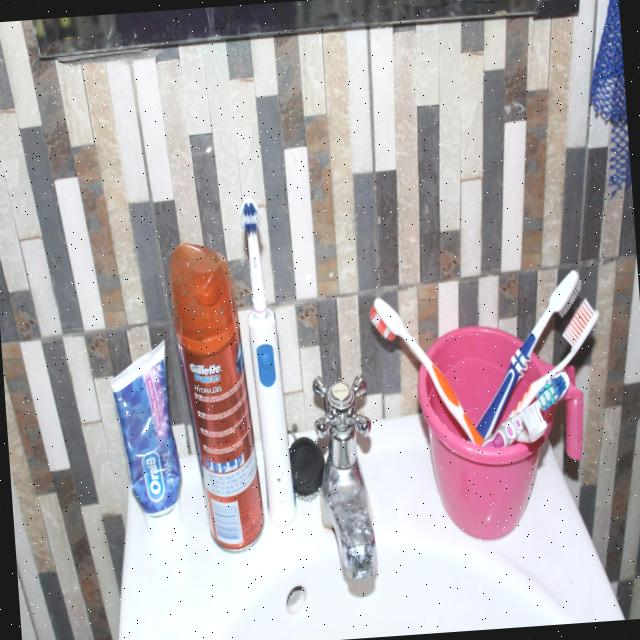Toothpaste: (106, 338, 184, 564)
